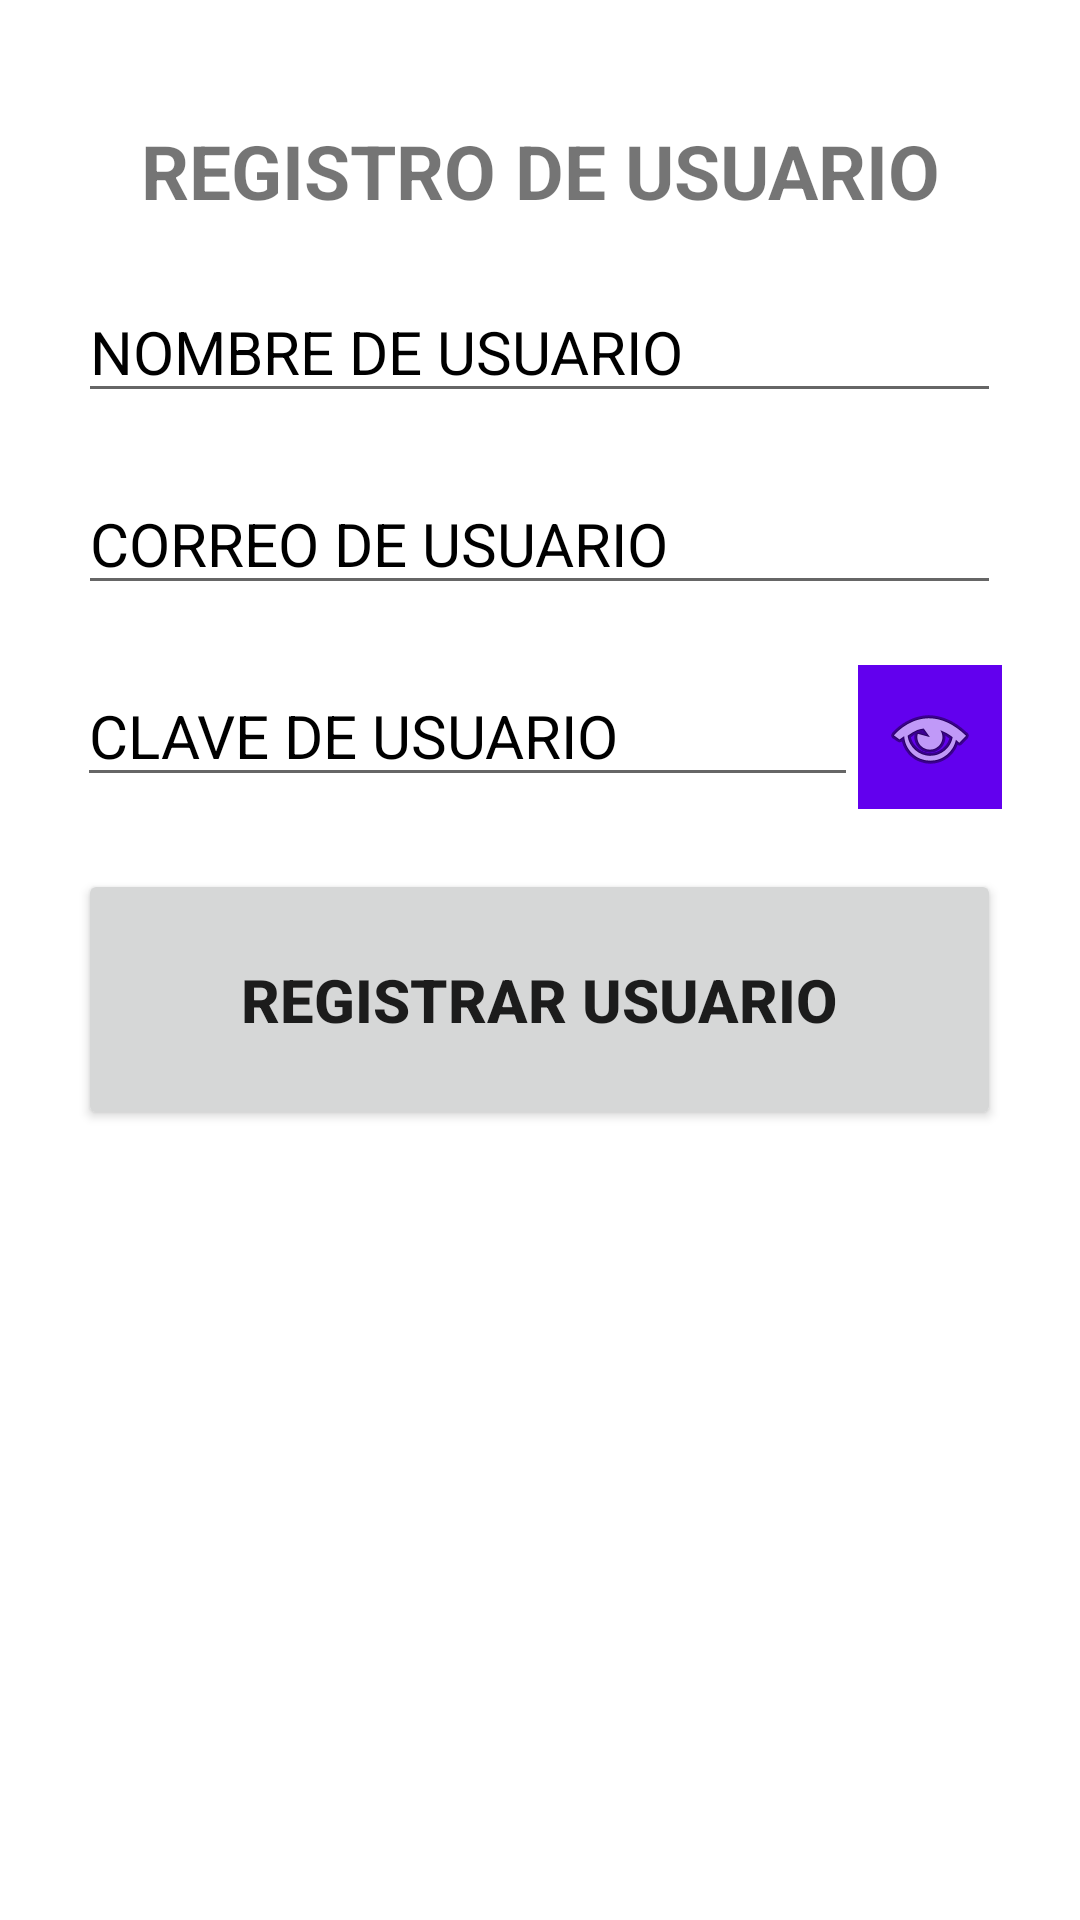

Where icons sit on this 1080x1920 app screen, as [x1=x1, y1=y1, x2=x2, y2=y2]:
VER CLAVE: [x1=858, y1=665, x2=1002, y2=809]
